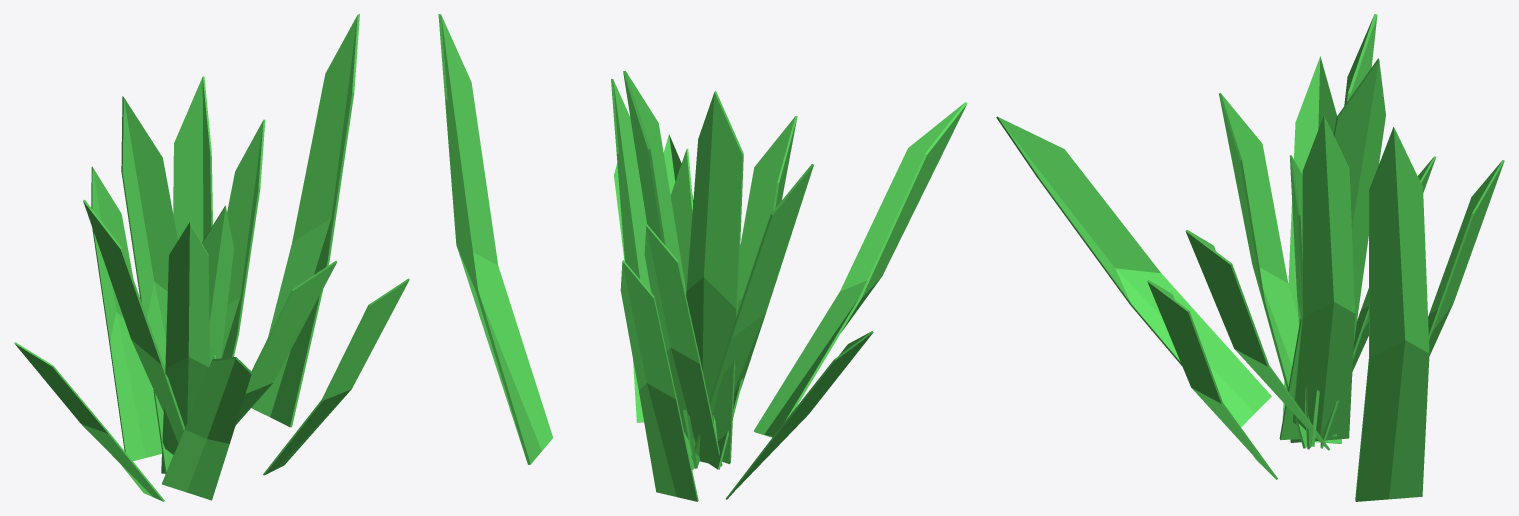
The model's file is Grass3.fbx.
The picture shows the model from 3 angles, left to right: view 1: azimuth 30°, elevation 25°; view 2: azimuth 150°, elevation 25°; view 3: azimuth 270°, elevation 25°; orthographic projection. The views are drawn at different scales.
Visible parts, largest first — view 1: Plane.024, Plane.016, Plane.012, Plane.022, Plane.021, Plane.019, Plane.013, Plane.014, Plane.020, Plane.017, Plane.018, Plane.023; view 2: Plane.024, Plane.016, Plane.021, Plane.022, Plane.015, Plane.013, Plane.019, Plane.012, Plane.014, Plane.023, Plane.018, Plane.017 (+1 smaller); view 3: Plane.024, Plane.014, Plane.021, Plane.012, Plane.019, Plane.017, Plane.020, Plane.022, Plane.013, Plane.018, Plane.016, Plane.015.
Boxes of the visible parts, x1=… form: Plane.024: x1=251, y1=14, x2=359, y2=427; Plane.016: x1=121, y1=96, x2=177, y2=474; Plane.012: x1=161, y1=222, x2=209, y2=473; Plane.022: x1=91, y1=166, x2=161, y2=461; Plane.021: x1=162, y1=357, x2=252, y2=500; Plane.019: x1=173, y1=76, x2=215, y2=358; Plane.013: x1=83, y1=199, x2=184, y2=443; Plane.014: x1=221, y1=119, x2=265, y2=358; Plane.020: x1=263, y1=278, x2=409, y2=475; Plane.017: x1=236, y1=261, x2=336, y2=424; Plane.018: x1=202, y1=205, x2=234, y2=364; Plane.023: x1=14, y1=342, x2=164, y2=501; Plane.024: x1=438, y1=14, x2=552, y2=464; Plane.016: x1=686, y1=91, x2=743, y2=464; Plane.021: x1=753, y1=102, x2=967, y2=437; Plane.022: x1=620, y1=260, x2=698, y2=501; Plane.015: x1=644, y1=224, x2=722, y2=466; Plane.013: x1=691, y1=164, x2=813, y2=459; Plane.019: x1=623, y1=71, x2=699, y2=468; Plane.012: x1=708, y1=116, x2=797, y2=469; Plane.014: x1=611, y1=79, x2=699, y2=469; Plane.023: x1=725, y1=331, x2=873, y2=499; Plane.018: x1=670, y1=148, x2=717, y2=440; Plane.017: x1=663, y1=134, x2=693, y2=202; Plane.024: x1=1355, y1=127, x2=1429, y2=501; Plane.014: x1=1290, y1=116, x2=1355, y2=442; Plane.021: x1=996, y1=116, x2=1271, y2=427; Plane.012: x1=1219, y1=93, x2=1306, y2=448; Plane.019: x1=1279, y1=58, x2=1385, y2=439; Plane.017: x1=1185, y1=230, x2=1329, y2=450; Plane.020: x1=1147, y1=280, x2=1277, y2=479; Plane.022: x1=1428, y1=160, x2=1504, y2=356; Plane.013: x1=1282, y1=56, x2=1337, y2=436; Plane.018: x1=1289, y1=155, x2=1315, y2=449; Plane.016: x1=1311, y1=14, x2=1377, y2=446; Plane.015: x1=1320, y1=156, x2=1436, y2=448.
Size of the model in its own units: 91.91 by 95.24 by 98.39.
